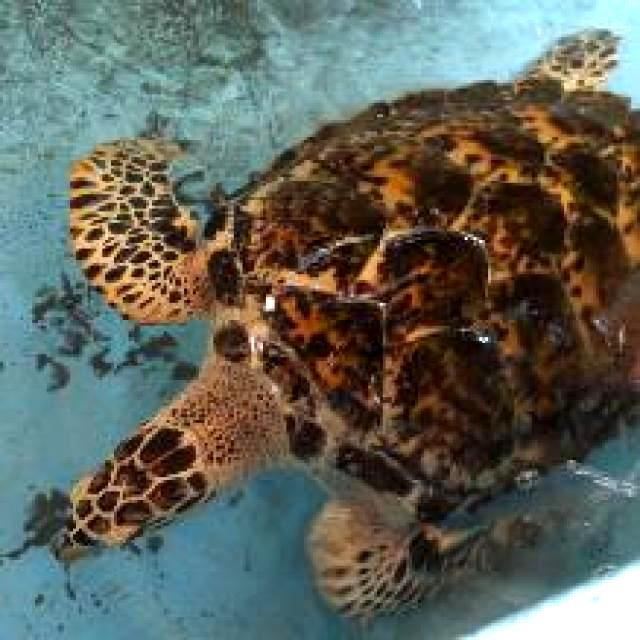Sea turtle: (55, 29, 640, 606)
